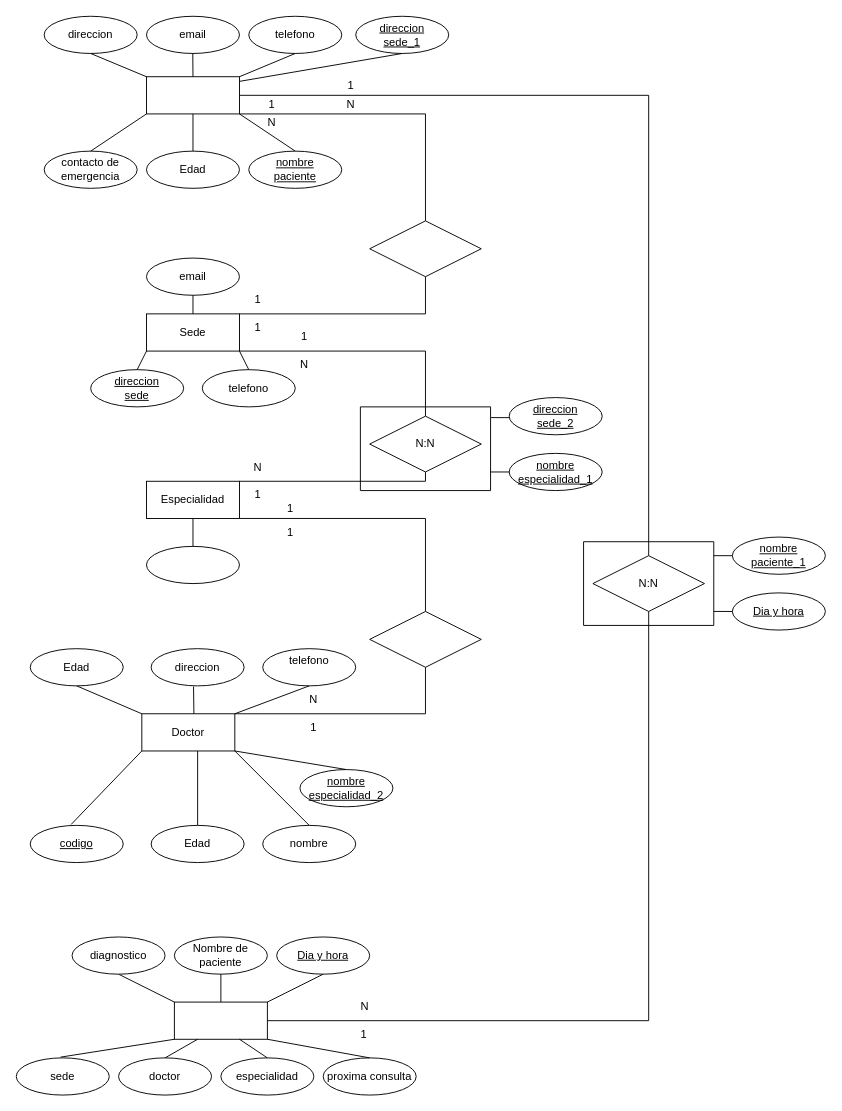
Some shapes in this 842 by 1111 pixel diagram are drawn without their labels. Each missing label, with the centre of its shape:
"1:N" goes at (425,639).
"Detalle de consulta" goes at (220,1020).
"N:1" goes at (425,248).
"nombre especialidad" goes at (192,564).
"Paciente" goes at (192,95).
